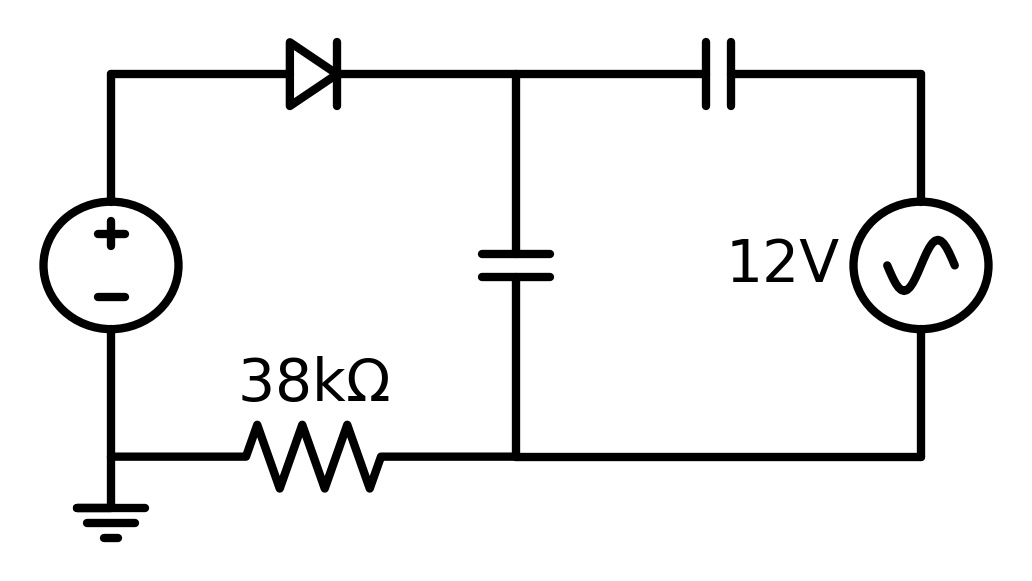capacitor: (672, 27, 768, 117), (458, 226, 565, 306)
diode: (267, 22, 364, 126)
ground: (61, 483, 162, 553)
resistor: (221, 409, 410, 512)
sourceac: (837, 187, 999, 349)
sourcedc: (35, 182, 192, 347)
